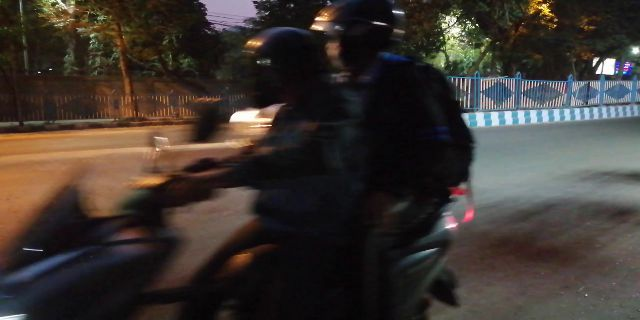Motorbike: (4, 161, 460, 320)
